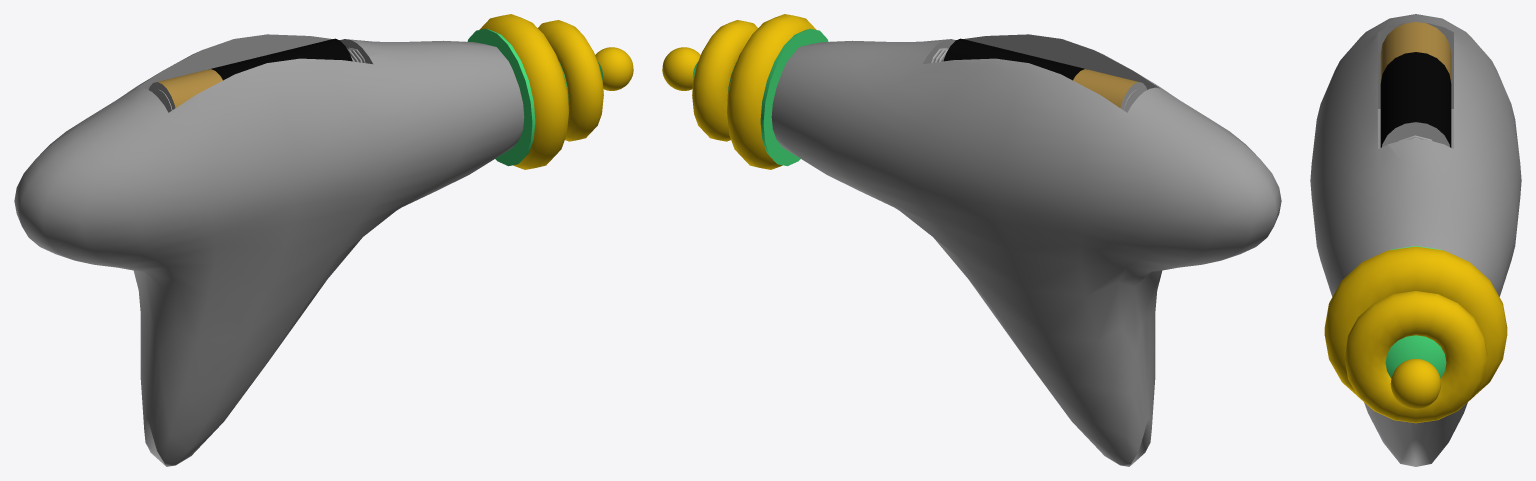
Rendered from blaster.fbx.
The picture shows the model from 3 angles, left to right: view 1: azimuth 30°, elevation 25°; view 2: azimuth 150°, elevation 25°; view 3: azimuth 270°, elevation 25°; orthographic projection. The views are drawn at different scales.
Visible parts, largest first — view 1: Gun, Battery; view 2: Gun, Battery; view 3: Gun, Battery.
Part boxes in pixels (left/top/right/bottom): Gun: left=14, top=14, right=633, bottom=466; Battery: left=149, top=38, right=352, bottom=112; Gun: left=662, top=14, right=1281, bottom=466; Battery: left=943, top=38, right=1146, bottom=112; Gun: left=1310, top=14, right=1521, bottom=466; Battery: left=1380, top=22, right=1451, bottom=147.
Size of the model in its own units: 3.95 by 2.44 by 1.02.
